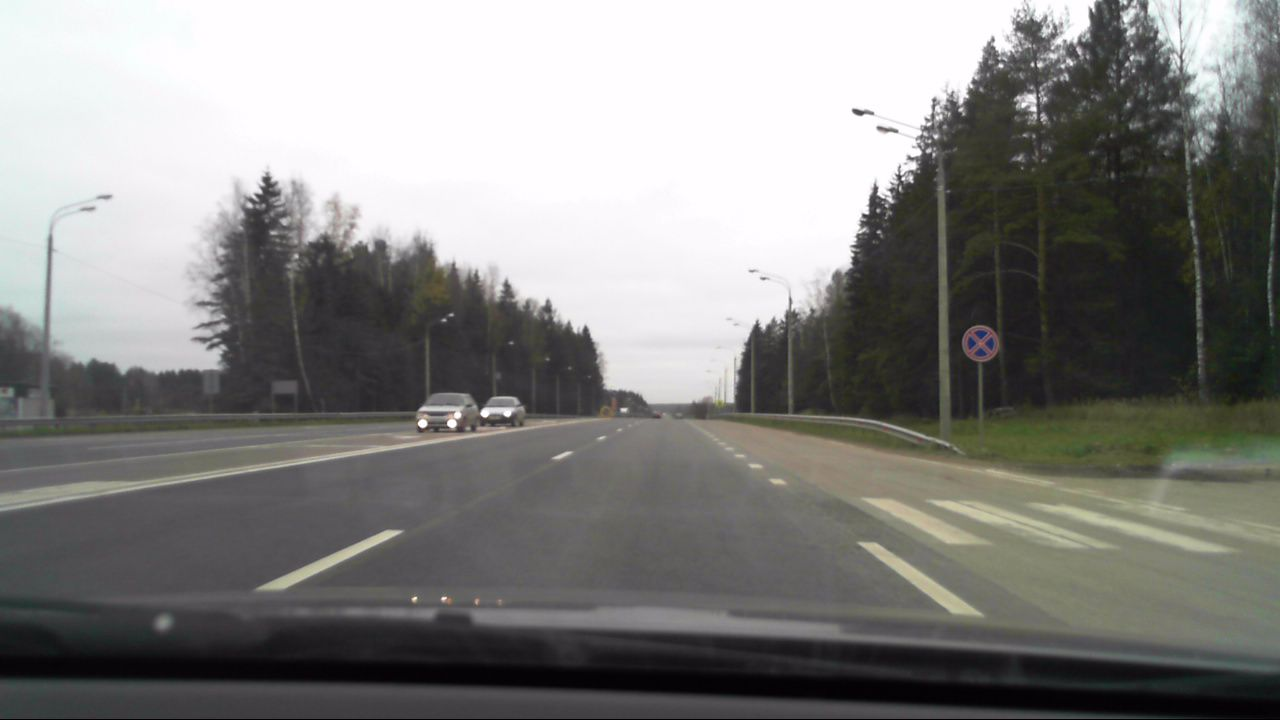No Parking: (962, 325, 999, 363)
